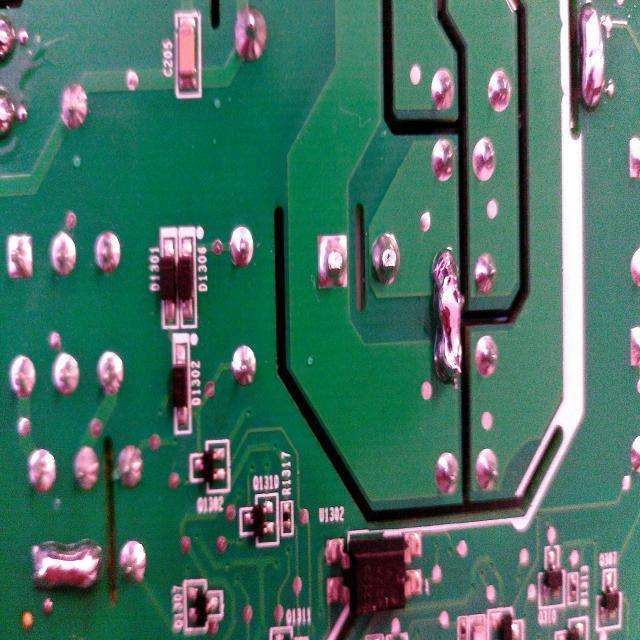Soldering shorted: (427, 242, 467, 391), (32, 539, 104, 591)
